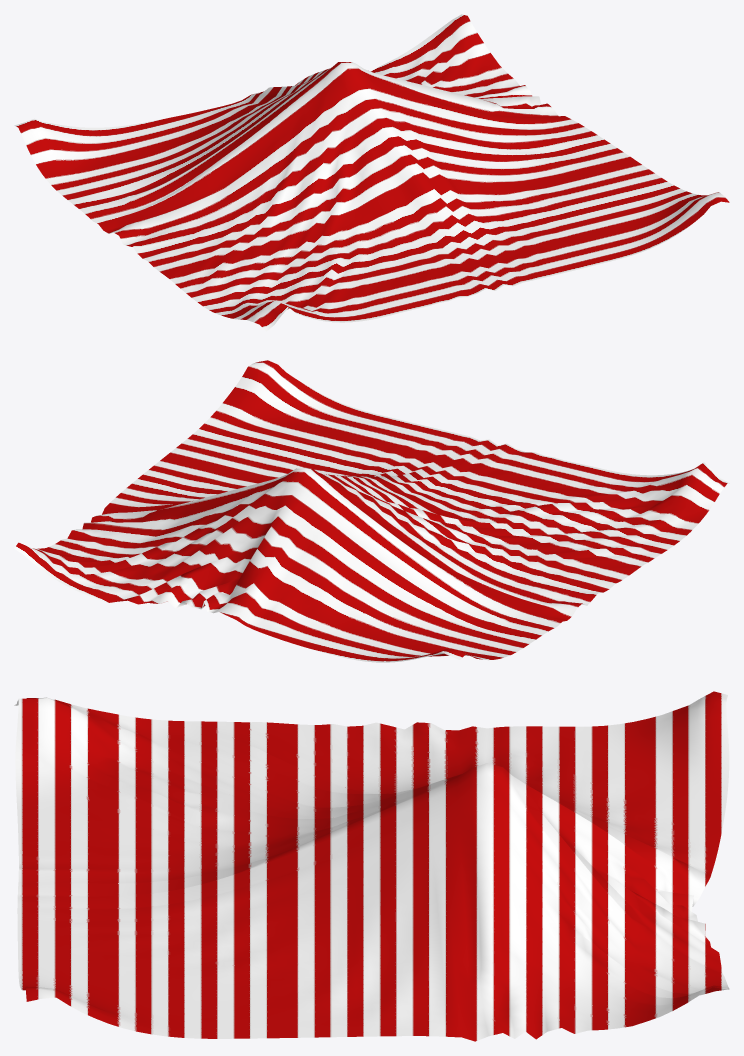
File: Tent_top.FBX
3 renders of one model, top to bottom at view 1: azimuth 30°, elevation 25°; view 2: azimuth 150°, elevation 25°; view 3: azimuth 270°, elevation 25°, orthographic. The views are drawn at different scales.
Parts seen in each view (by area): view 1: Tent_top; view 2: Tent_top; view 3: Tent_top.
Boxes of the visible parts, <box> form: Tent_top: <box>14,14,729,331</box>; Tent_top: <box>14,360,729,662</box>; Tent_top: <box>14,691,729,1041</box>.
Bounding box in the file's own units: 315 × 63.91 × 300.
Materials: 1 (1 with a texture image).
